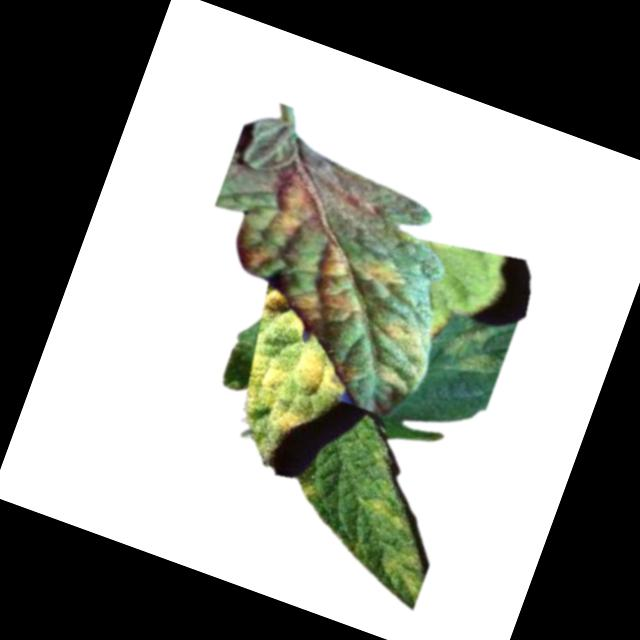Leaf_Mold: (222, 282, 364, 447), (302, 237, 375, 313), (261, 167, 320, 242), (373, 544, 430, 601), (354, 488, 417, 532), (354, 248, 410, 291), (369, 311, 425, 352), (297, 484, 315, 503)
